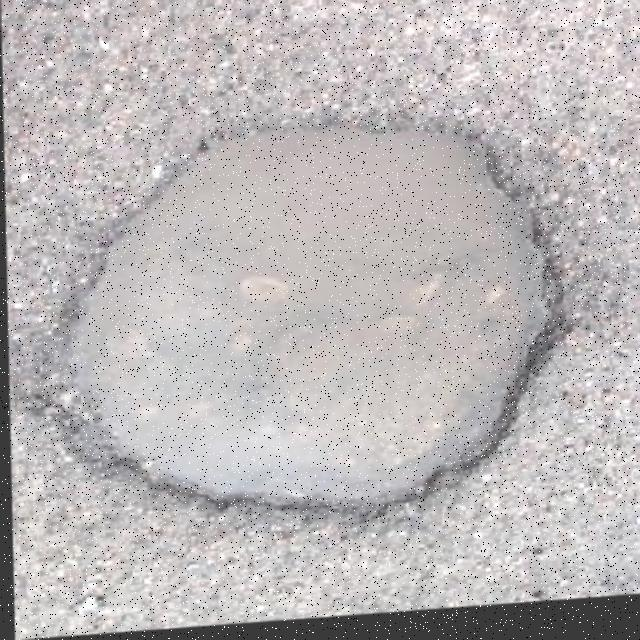pothole: (55, 109, 576, 544)
